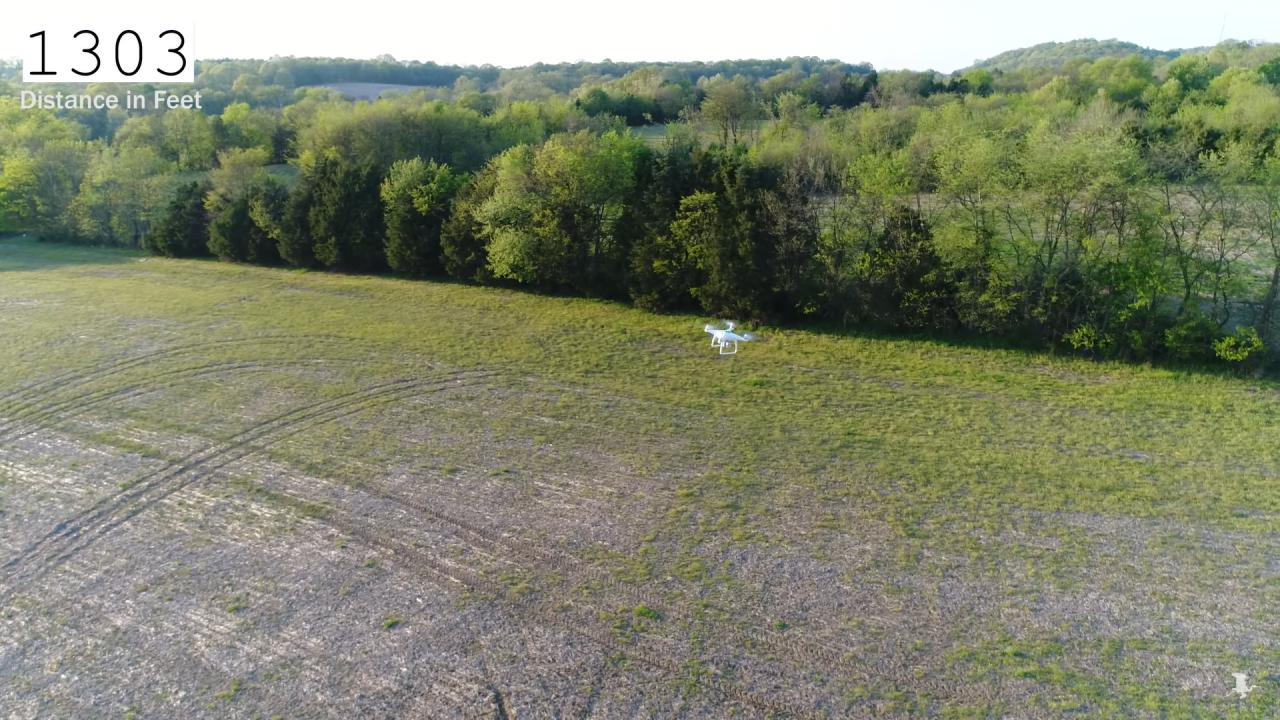Drone: (696, 314, 763, 361)
